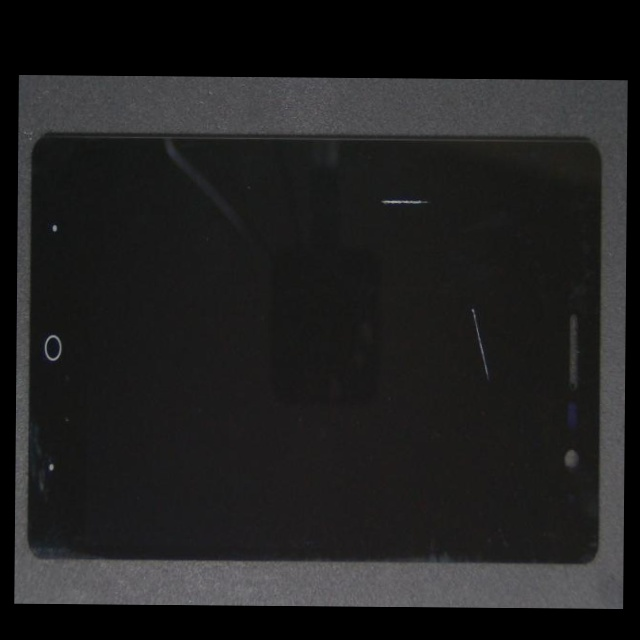scratch: (255, 148, 627, 463), (254, 133, 612, 249)
